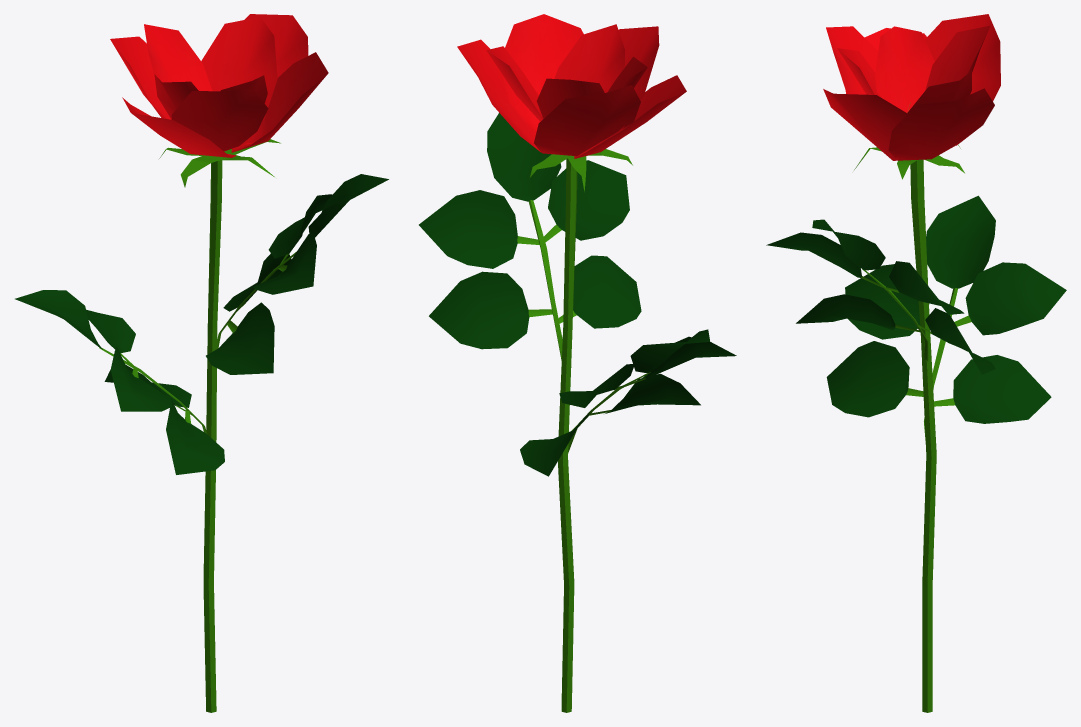
The model's file is Rose_fix.fbx.
The picture shows the model from 3 angles, left to right: view 1: azimuth 30°, elevation 25°; view 2: azimuth 150°, elevation 25°; view 3: azimuth 270°, elevation 25°; orthographic projection.
Visible parts, largest first — view 1: polySurface293, polySurface323; view 2: polySurface293, polySurface323; view 3: polySurface293, polySurface323.
Part boxes in pixels (x1,y1,x2,y2): polySurface293: (15,160,388,712); polySurface323: (110,14,328,187); polySurface293: (419,113,736,712); polySurface323: (457,14,686,191); polySurface293: (766,159,1066,712); polySurface323: (823,14,1000,179).
Size of the model in its own units: 49.06 by 101 by 41.34.
